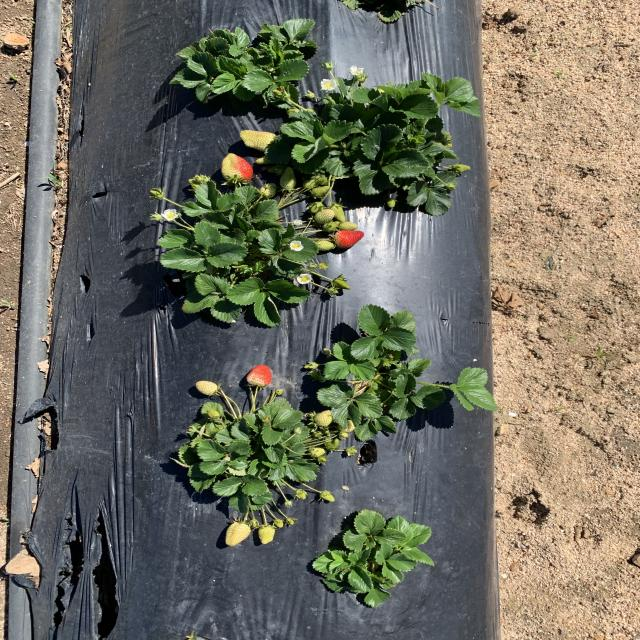unripe: (333, 229, 365, 249), (247, 365, 274, 388)
